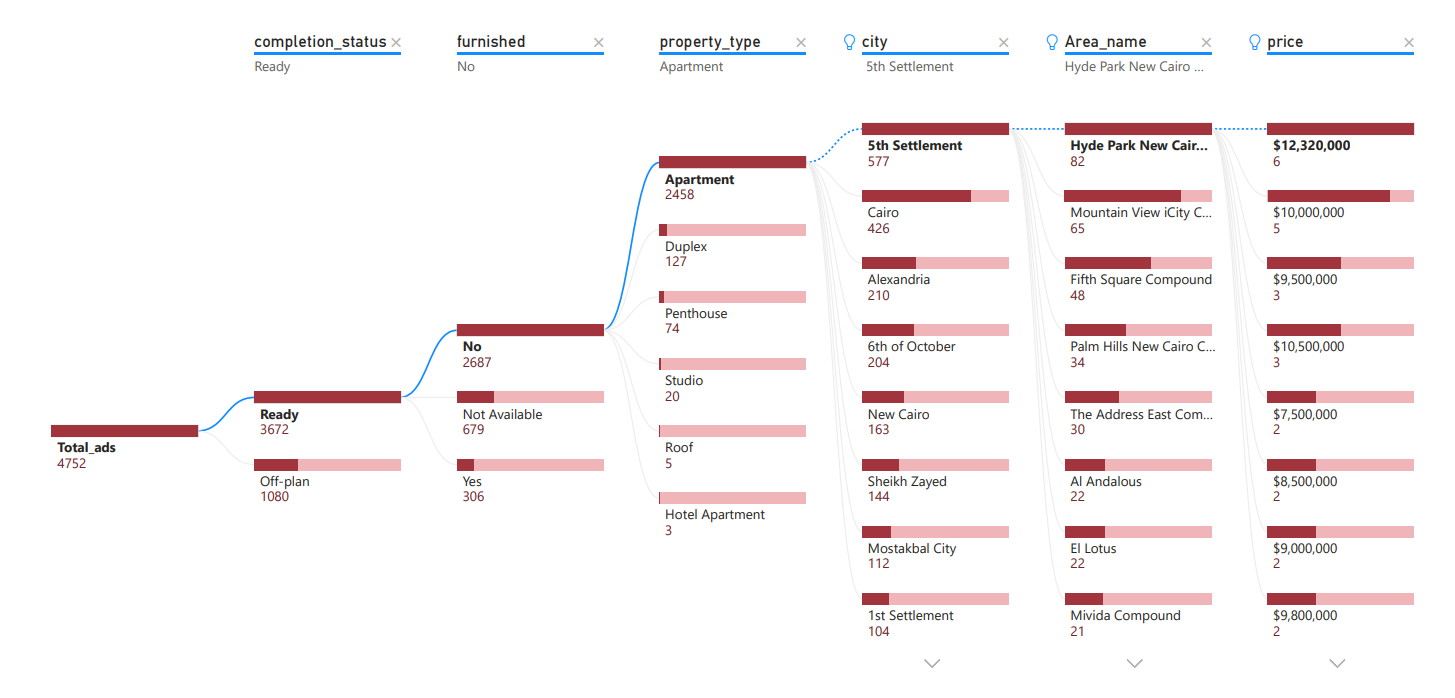

This screenshot's page, from the dashboard's own definition file:
{"tool":"powerbi","page":{"name":"Tree","canvas":[1280,720],"ordinal":4},"visuals":[{"type":"decompositionTreeVisual","fields":{"Analyze":["Dax.Total_ads"],"ExplainBy":["Dubizzle_properties.completion_status","Dubizzle_properties.furnished","Dubizzle_properties.property_type","Dubizzle_properties.city","Dubizzle_properties.Area_name","Dubizzle_properties.price"]},"box":[0,0,1279.8,720.2],"z":0}]}

Visuals, with their boxes on the page's 1280x720 design canvas (x1, y1, x2, y2). These are canvas units, not pixel positions in the 1455x698 screenshot, which may show the page scaled, cropped or inside an application window:
decompositionTreeVisual - Dax.Total_ads x Dubizzle_properties.completion_status: <bbox>0, 0, 1280, 720</bbox>
